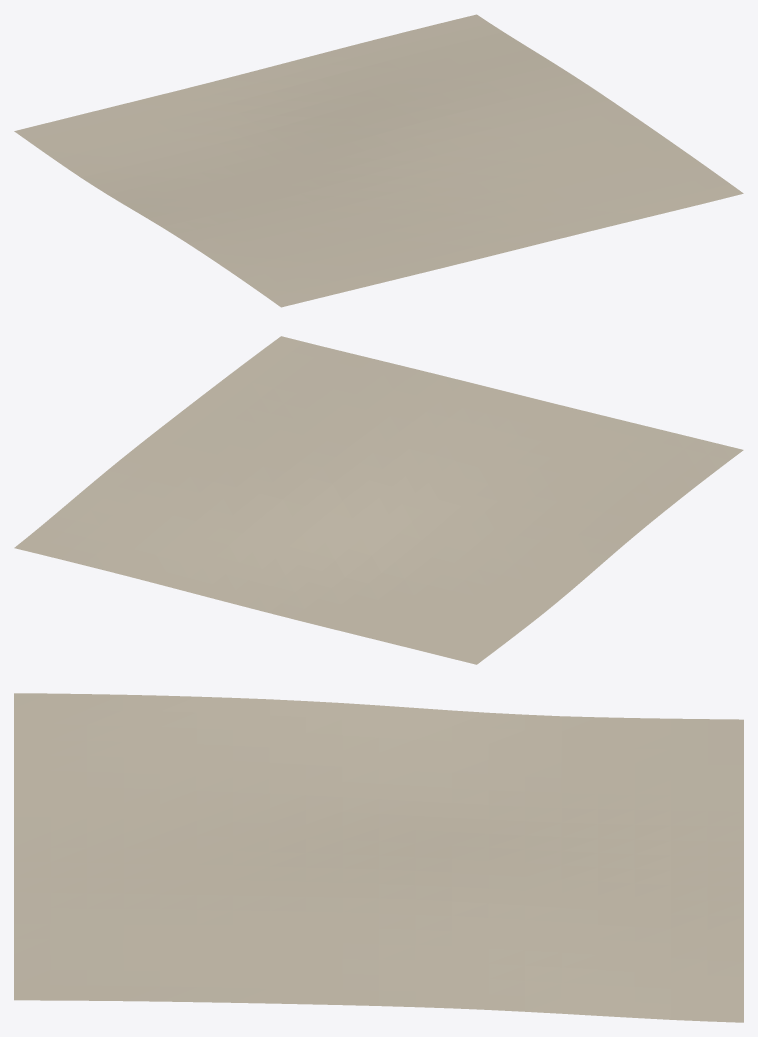
Rendered from bolak_-13_-14.glb.
3 renders of one model, top to bottom at view 1: azimuth 30°, elevation 25°; view 2: azimuth 150°, elevation 25°; view 3: azimuth 270°, elevation 25°, orthographic. The views are drawn at different scales.
Parts seen in each view (by area): view 1: Yer_Tuproq-col; view 2: Yer_Tuproq-col; view 3: Yer_Tuproq-col.
Part boxes in pixels (x1=…): Yer_Tuproq-col: x1=14, y1=14, x2=743, y2=307; Yer_Tuproq-col: x1=14, y1=336, x2=743, y2=664; Yer_Tuproq-col: x1=14, y1=693, x2=743, y2=1022.
Bounding box in the file's own units: 400 × 16.72 × 400.
